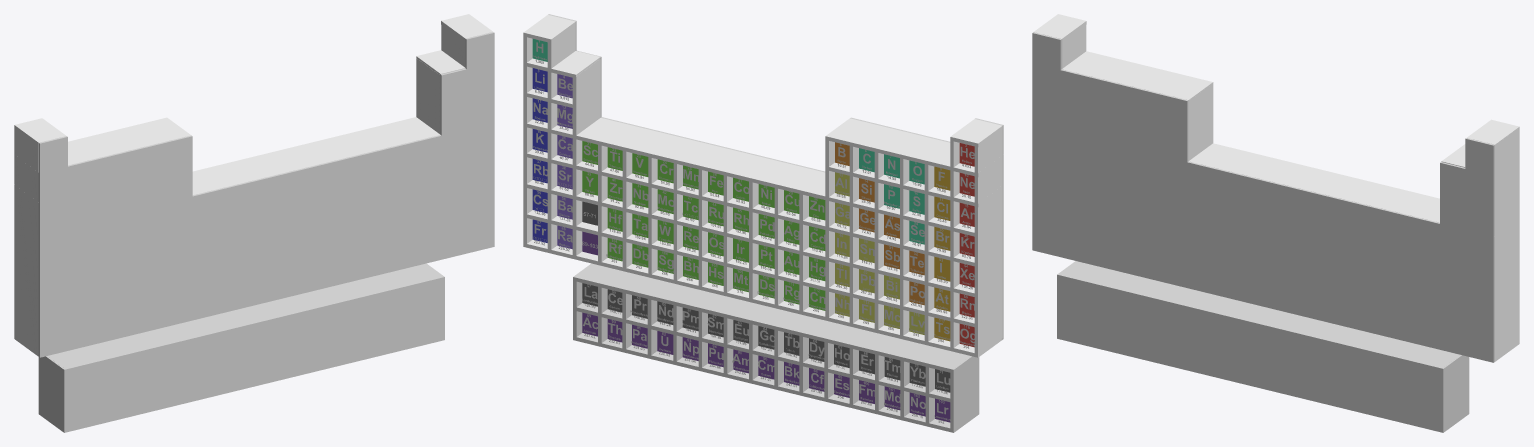
File: The3DPeriodicTable.fbx
3 views of the same model, side by side, from view 1: azimuth 30°, elevation 25°; view 2: azimuth 150°, elevation 25°; view 3: azimuth 330°, elevation 25° (orthographic).
Visible parts, largest first — view 1: Back Board 1, Back Board 2, Table Border 1, Table Border 2; view 2: Table Border 1, Table Border 2, Green, Violet, Gray, Beige, Orange, Red, Gold, Turquoise, Blue, Lavender (+1 smaller); view 3: Back Board 1, Back Board 2, Table Border 1, Table Border 2.
Part boxes in pixels (left/top/right/bottom): Back Board 1: left=38, top=32, right=494, bottom=357; Back Board 2: left=63, top=275, right=444, bottom=432; Table Border 1: left=14, top=14, right=492, bottom=355; Table Border 2: left=38, top=263, right=442, bottom=431; Table Border 1: left=523, top=15, right=1002, bottom=357; Table Border 2: left=573, top=263, right=978, bottom=432; Green: left=582, top=141, right=825, bottom=310; Violet: left=582, top=312, right=950, bottom=422; Gray: left=582, top=283, right=950, bottom=392; Beige: left=835, top=172, right=924, bottom=334; Orange: left=835, top=142, right=924, bottom=305; Red: left=959, top=143, right=974, bottom=347; Gold: left=934, top=166, right=950, bottom=341; Turquoise: left=859, top=148, right=924, bottom=244; Blue: left=532, top=68, right=547, bottom=242; Lavender: left=557, top=74, right=572, bottom=249; Back Board 1: left=1032, top=32, right=1494, bottom=362; Back Board 2: left=1057, top=273, right=1444, bottom=432; Table Border 1: left=1033, top=14, right=1519, bottom=361; Table Border 2: left=1059, top=261, right=1469, bottom=431.
Size of the model in its own units: 4.31 by 2.67 by 0.4191.
